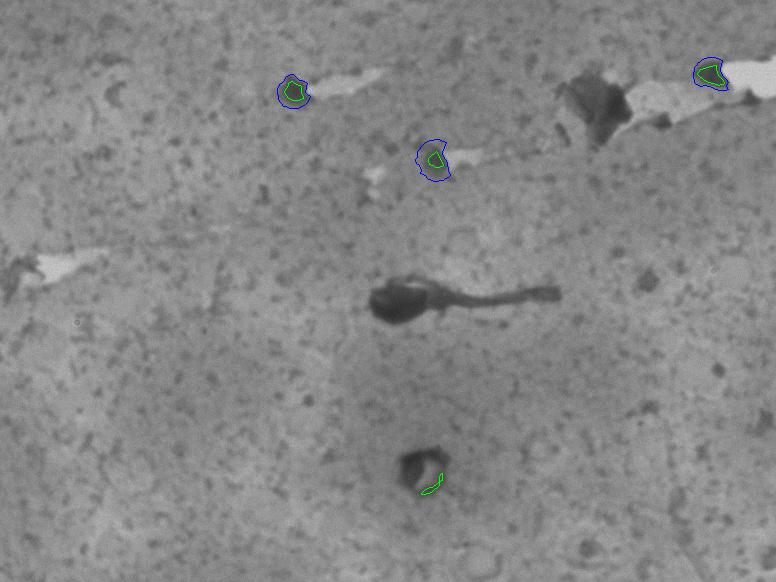Abnormal: (315, 238, 605, 368)
